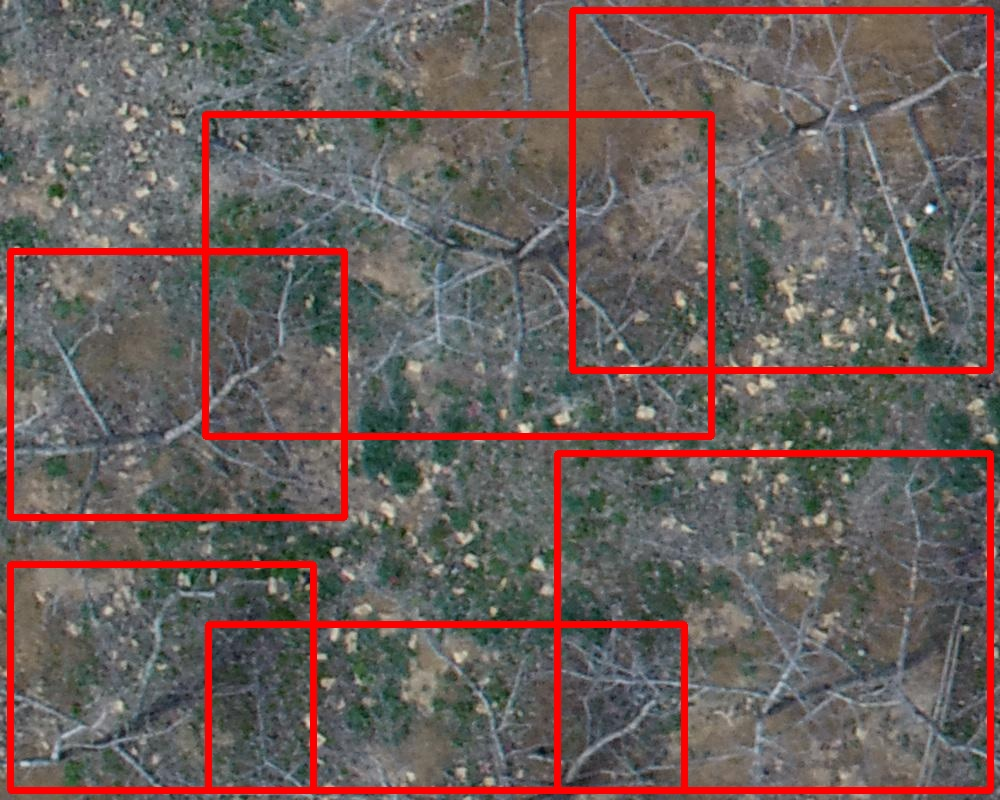apple: (205, 114, 711, 436), (572, 10, 990, 370), (557, 453, 990, 790), (10, 251, 344, 517), (208, 624, 684, 790), (10, 564, 313, 790)
